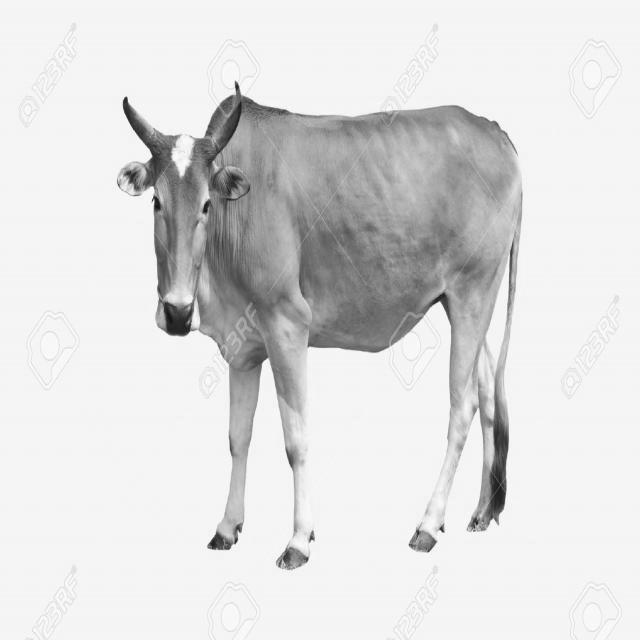cow: (118, 86, 522, 569)
